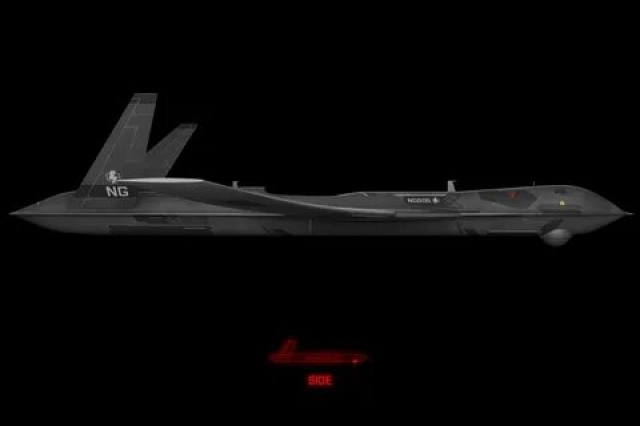military drone: (10, 93, 636, 248)
